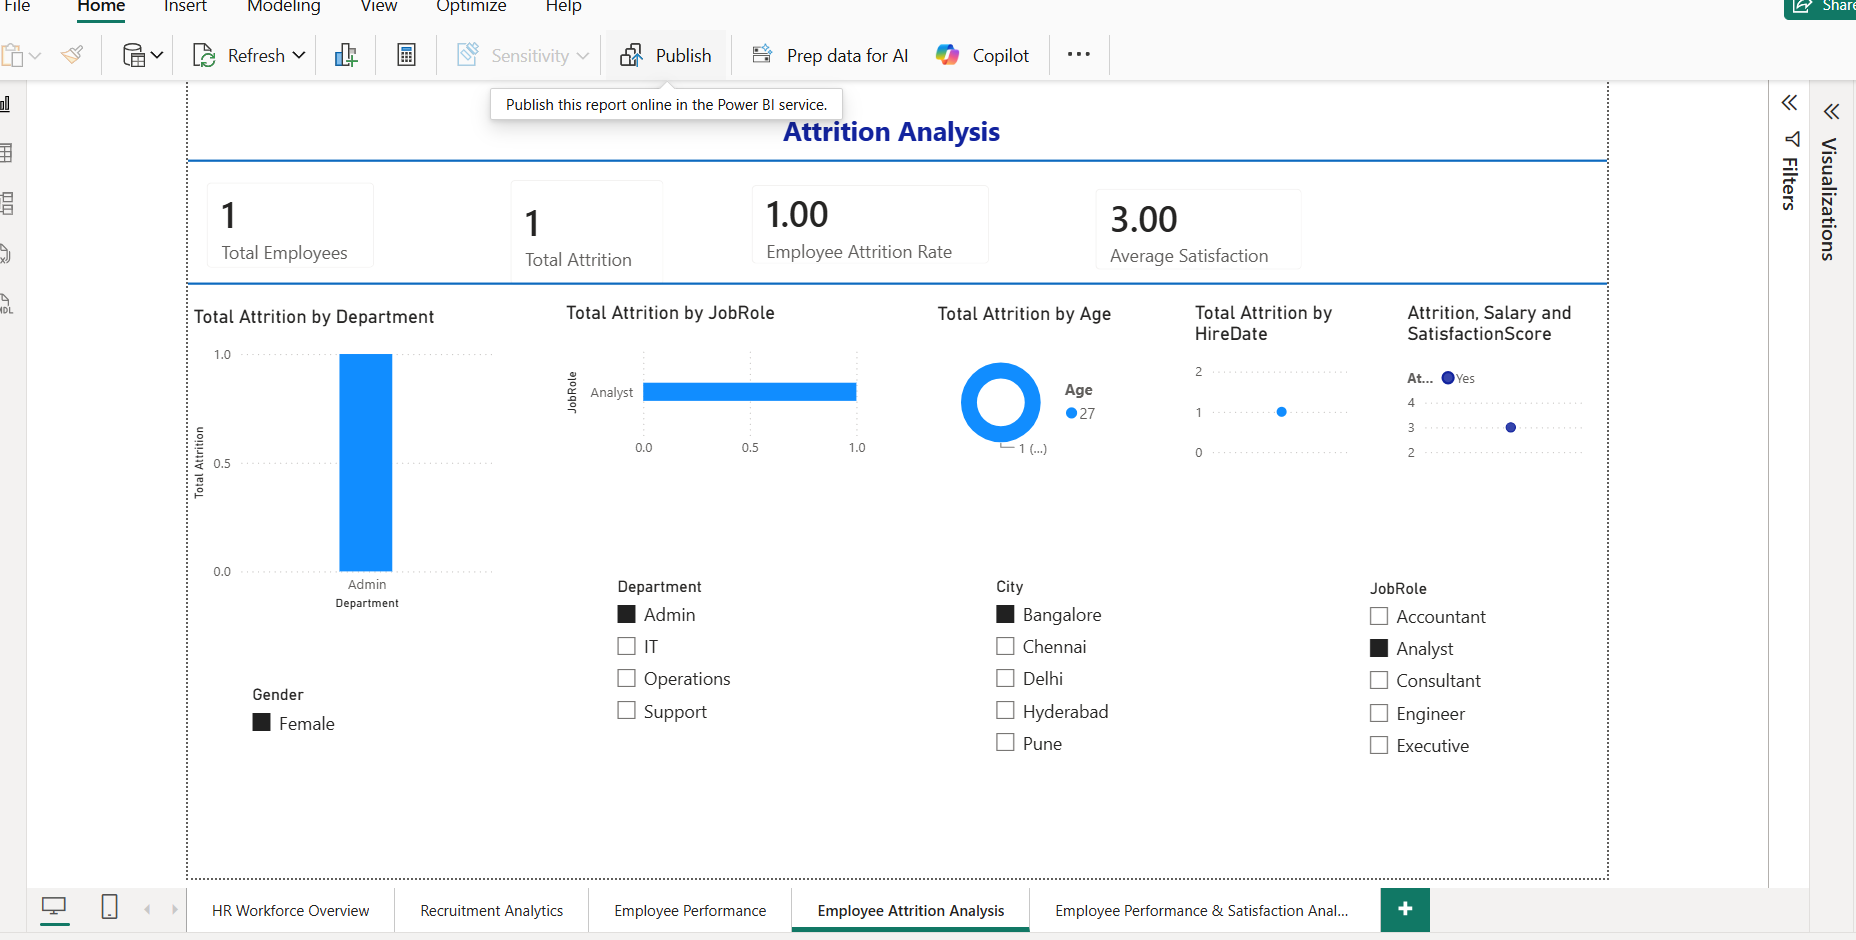

What the dashboard file says about the page in this screenshot:
{"tool":"powerbi","page":{"name":"Employee Attrition Analysis","canvas":[1280,720],"ordinal":3},"visuals":[{"type":"cardVisual","fields":{"Data":["Employees.Total Employees"]},"box":[0,75.8,185.3,111.2],"z":0},{"type":"cardVisual","fields":{"Data":["Employees.Total Attrition"]},"box":[273.9,73.4,172.4,129.6],"z":1000},{"type":"cardVisual","fields":{"Data":["Employees.Employee Attrition Rate"]},"box":[491.6,78.3,248.2,105.2],"z":2000},{"type":"cardVisual","fields":{"Data":["Employees.Average Satisfaction"]},"box":[801,80.7,220.1,107.6],"z":3000},{"type":"clusteredColumnChart","fields":{"Category":["Employees.Department"],"Y":["Employees.Total Attrition"]},"box":[0,203,280,280],"z":4000},{"type":"clusteredBarChart","fields":{"Category":["Employees.JobRole"],"Y":["Employees.Total Attrition"]},"box":[336.3,199.3,280,150],"z":5000},{"type":"donutChart","fields":{"Category":["Employees.Age"],"Y":["Employees.Total Attrition"]},"box":[670.1,200.5,171,150],"z":6000},{"type":"scatterChart","fields":{"X":["Employees.Salary"],"Y":["Employees.SatisfactionScore"],"Series":["Employees.Attrition"]},"box":[1094.4,199.3,171,150],"z":7000},{"type":"lineChart","fields":{"Category":["Employees.HireDate"],"Y":["Employees.Total Attrition"]},"box":[902.5,199.3,150,150],"z":8000},{"type":"slicer","fields":{"Values":["Employees.JobRole"]},"box":[1052.9,445.1,203,215.2],"z":9000},{"type":"slicer","fields":{"Values":["Employees.Gender"]},"box":[45.2,540.5,112.5,119.8],"z":10000},{"type":"slicer","fields":{"Values":["Employees.City"]},"box":[715.4,442.7,171.2,238.5],"z":11000},{"type":"slicer","fields":{"Values":["Employees.Department"]},"box":[374.2,442.7,171.2,256.8],"z":12000},{"type":"textbox","box":[57.5,24.5,1147,45.2],"z":13000},{"type":"shape","box":[0,0,1280.3,145.5],"z":14000},{"type":"shape","box":[0,55,1280.3,256.8],"z":15000}]}

Visuals, with their boxes on the page's 1280x720 design canvas (x1, y1, x2, y2). These are canvas units, not pixel positions in the 1856x940 screenshot, which may show the page scaled, cropped or inside an application window:
cardVisual - Employees.Total Employees: detection(0, 76, 185, 187)
cardVisual - Employees.Total Attrition: detection(274, 73, 446, 203)
cardVisual - Employees.Employee Attrition Rate: detection(492, 78, 740, 184)
cardVisual - Employees.Average Satisfaction: detection(801, 81, 1021, 188)
clusteredColumnChart - Employees.Department x Employees.Total Attrition: detection(0, 203, 280, 483)
clusteredBarChart - Employees.JobRole x Employees.Total Attrition: detection(336, 199, 616, 349)
donutChart - Employees.Age x Employees.Total Attrition: detection(670, 200, 841, 350)
scatterChart - Employees.Salary x Employees.SatisfactionScore: detection(1094, 199, 1265, 349)
lineChart - Employees.HireDate x Employees.Total Attrition: detection(902, 199, 1052, 349)
slicer - Employees.JobRole: detection(1053, 445, 1256, 660)
slicer - Employees.Gender: detection(45, 540, 158, 660)
slicer - Employees.City: detection(715, 443, 887, 681)
slicer - Employees.Department: detection(374, 443, 545, 700)
textbox: detection(58, 24, 1204, 70)
shape: detection(0, 0, 1280, 146)
shape: detection(0, 55, 1280, 312)
